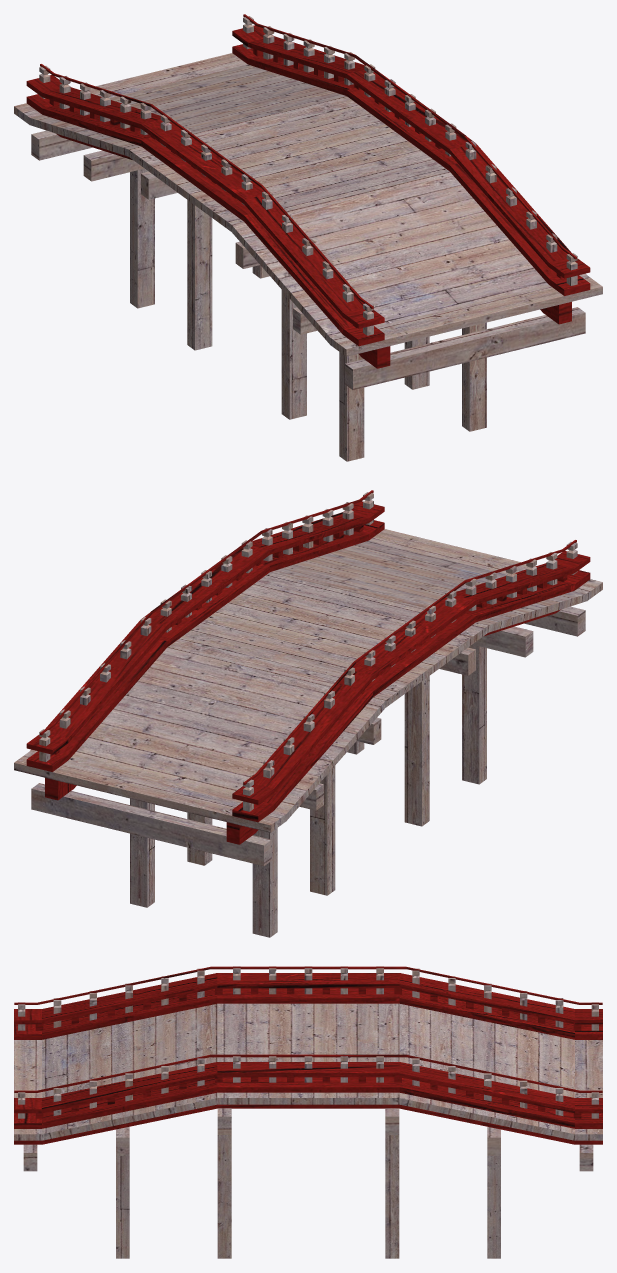
File: Bridge01_To.fbx
3 views of the same model, one above another, from view 1: azimuth 30°, elevation 25°; view 2: azimuth 150°, elevation 25°; view 3: azimuth 270°, elevation 25° (orthographic). The views are drawn at different scales.
Parts seen in each view (by area): view 1: Cube, Cube_003, Cube_005, Cube_004; view 2: Cube, Cube_003, Cube_005, Cube_004; view 3: Cube_003, Cube, Cube_005, Cube_004.
Part boxes in pixels (bbox=[...]): Cube: bbox=[14, 53, 602, 356]; Cube_003: bbox=[26, 14, 590, 368]; Cube_005: bbox=[130, 168, 486, 461]; Cube_004: bbox=[31, 130, 585, 389]; Cube: bbox=[14, 529, 602, 832]; Cube_003: bbox=[26, 490, 590, 844]; Cube_005: bbox=[130, 644, 486, 937]; Cube_004: bbox=[31, 606, 585, 865]; Cube_003: bbox=[14, 966, 602, 1144]; Cube: bbox=[14, 1003, 602, 1140]; Cube_005: bbox=[116, 1135, 500, 1258]; Cube_004: bbox=[23, 1108, 593, 1171].
Size of the model in its own units: 733 by 668 by 1642.
